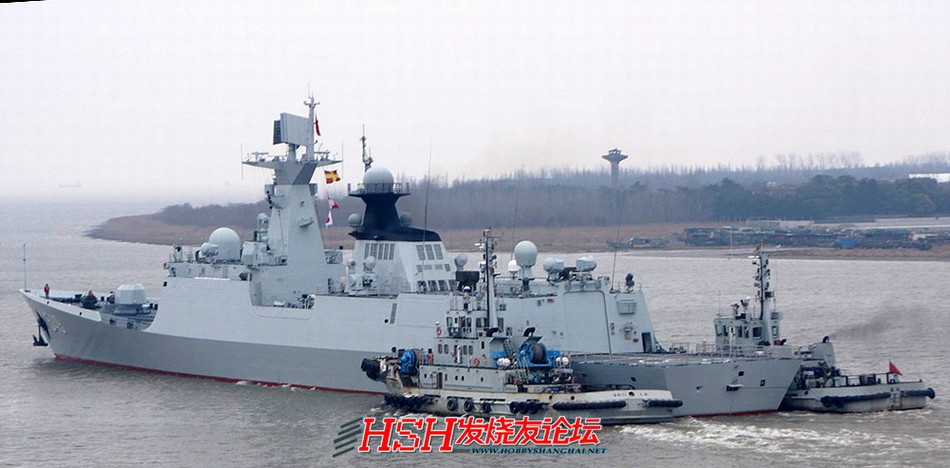otherboat: (361, 235, 691, 430), (719, 322, 932, 416)
warship: (23, 97, 795, 414)
